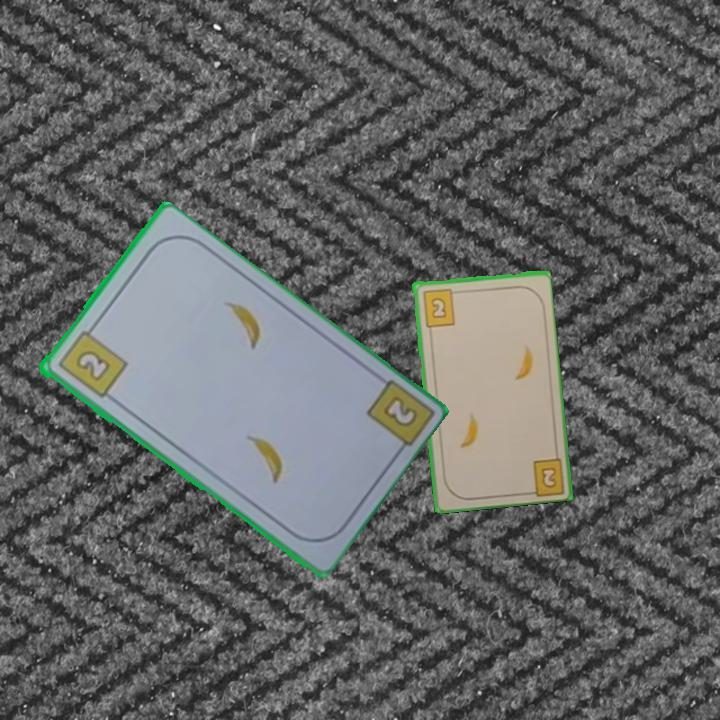2b: (53, 321, 130, 401), (419, 285, 461, 329), (379, 392, 423, 431), (537, 463, 559, 491)
